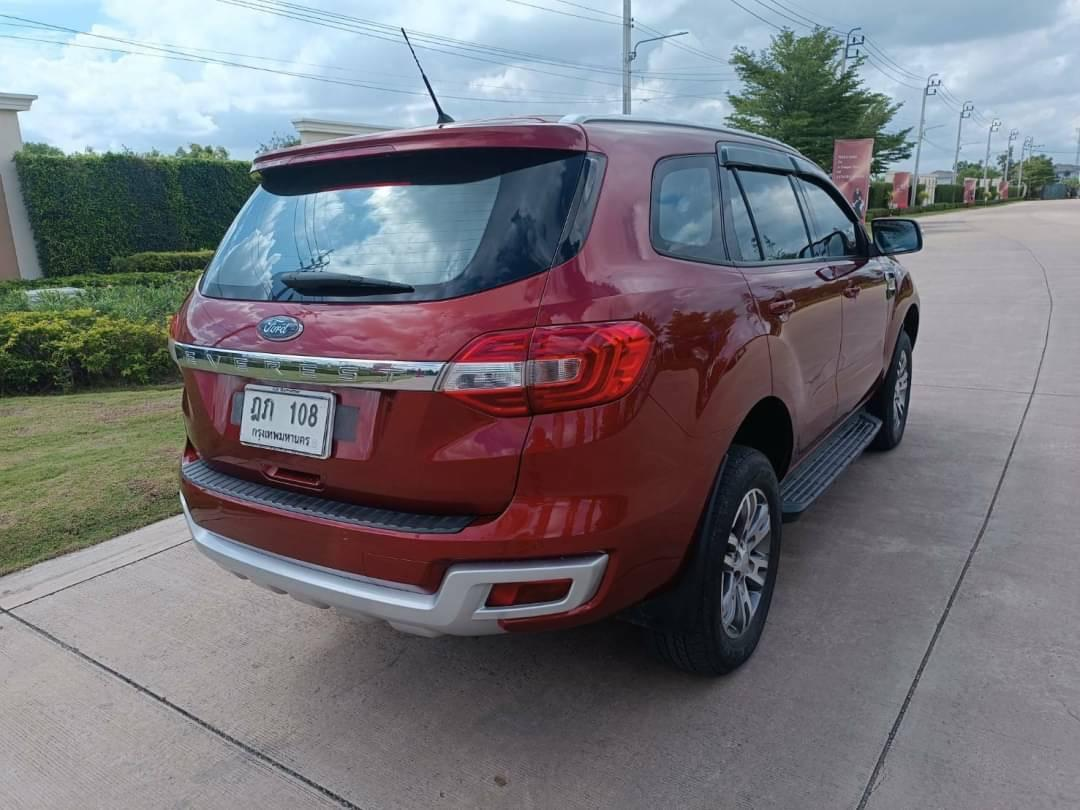license-plate: (238, 381, 336, 457)
